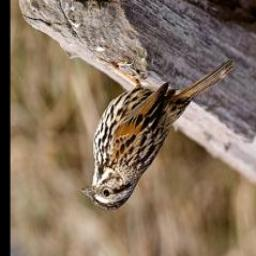Sparrow: (79, 55, 236, 212)
